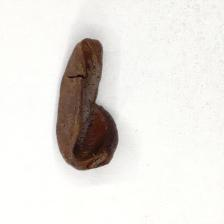NG: (66, 38, 118, 163)
